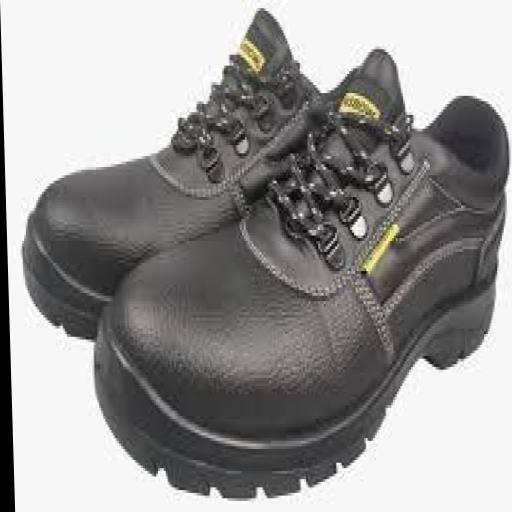safety_boots: (96, 273, 418, 508), (11, 159, 164, 318)
